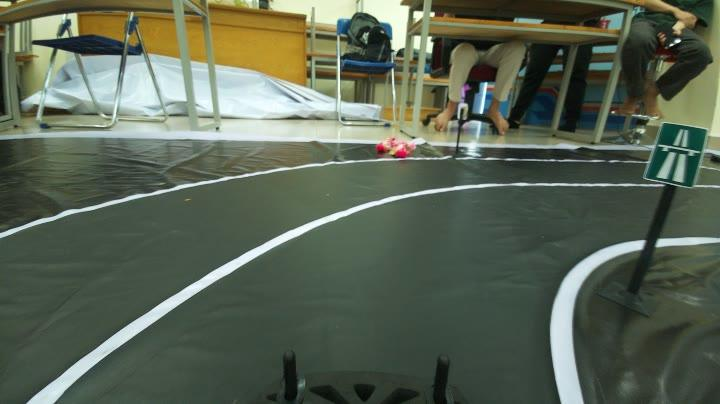highway_entry: (642, 116, 709, 192)
